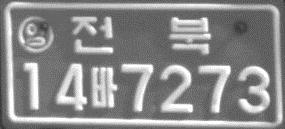1: (17, 62, 48, 111)
2: (158, 64, 193, 113)
3: (236, 64, 270, 116)
4: (54, 62, 87, 112)
7: (120, 62, 153, 112), (197, 64, 230, 114)
바: (90, 66, 118, 109)
영: (16, 15, 55, 54)
전북_D: (70, 14, 212, 56)
